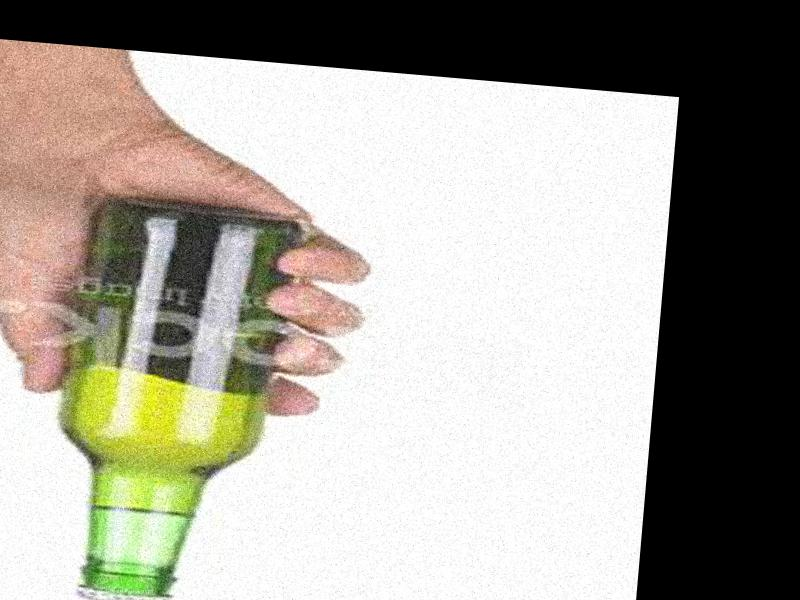Beer: (39, 195, 291, 600)
